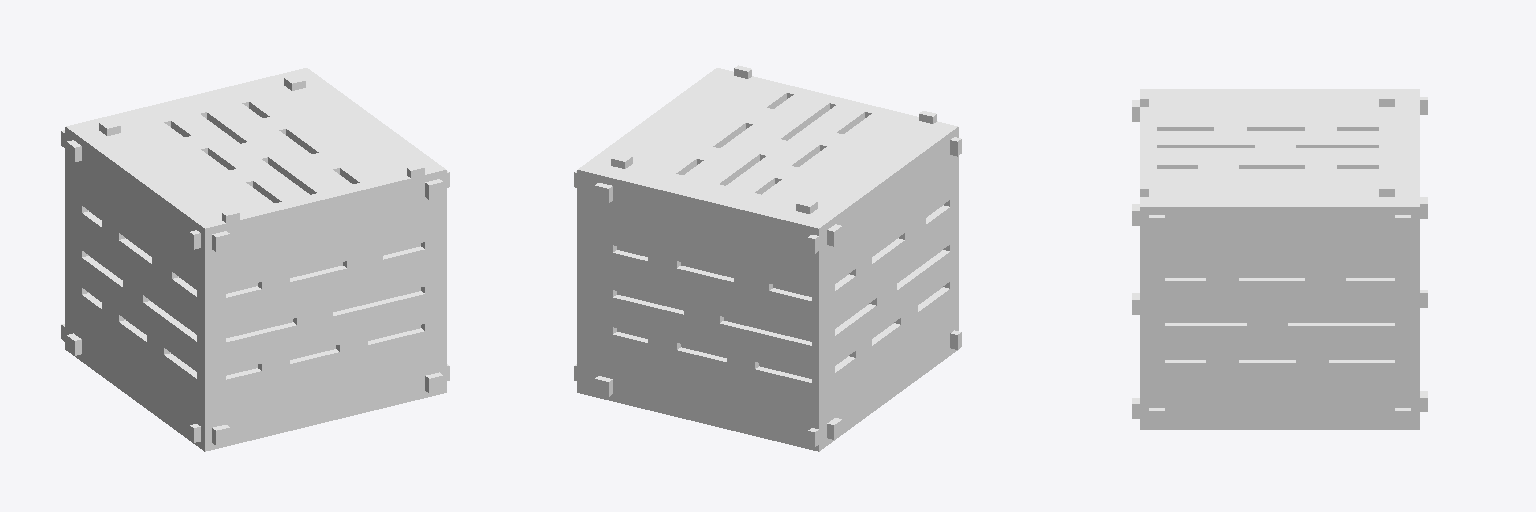
File: tnt.obj
The picture shows the model from 3 angles: view 1: azimuth 30°, elevation 25°; view 2: azimuth 150°, elevation 25°; view 3: azimuth 270°, elevation 25°; orthographic projection.
Parts seen in each view (by area): view 1: object 1; view 2: object 1; view 3: object 1.
Part boxes in pixels (x1,y1,x2,y2): object 1: (61, 68, 449, 451); object 1: (574, 65, 961, 451); object 1: (1132, 89, 1427, 429).
Size of the model in its own units: 3.6 by 3.1 by 3.6.